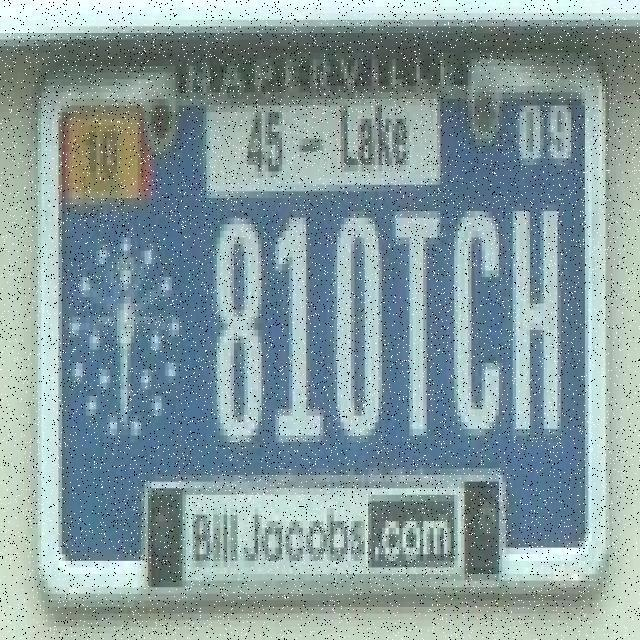LicensePlate: (33, 48, 610, 607)
